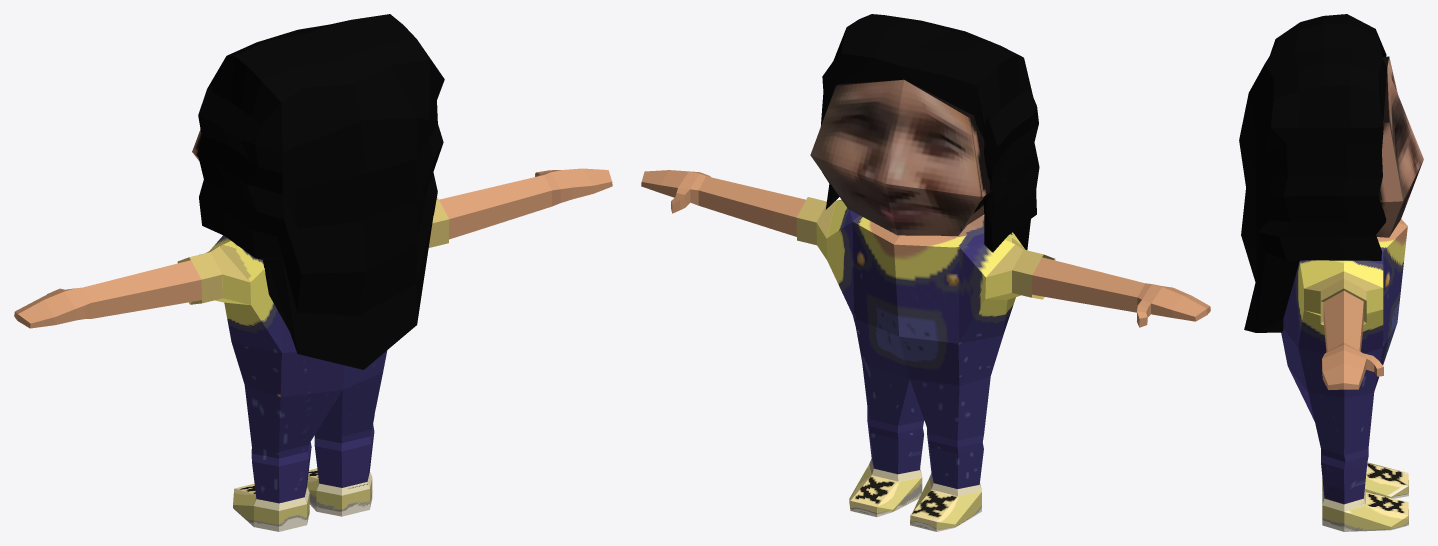
The model's file is Irish.fbx.
3 renders of one model, left to right at view 1: azimuth 30°, elevation 25°; view 2: azimuth 150°, elevation 25°; view 3: azimuth 270°, elevation 25°, orthographic. The views are drawn at different scales.
Visible parts, largest first — view 1: Hair; view 2: Hair; view 3: Hair.
Boxes of the visible parts, bbox=[...] form: Hair: bbox=[14, 14, 612, 531]; Hair: bbox=[641, 14, 1210, 531]; Hair: bbox=[1239, 14, 1423, 531].
Size of the model in its own units: 1369 by 1063 by 387.
3 materials, 2 textured.
